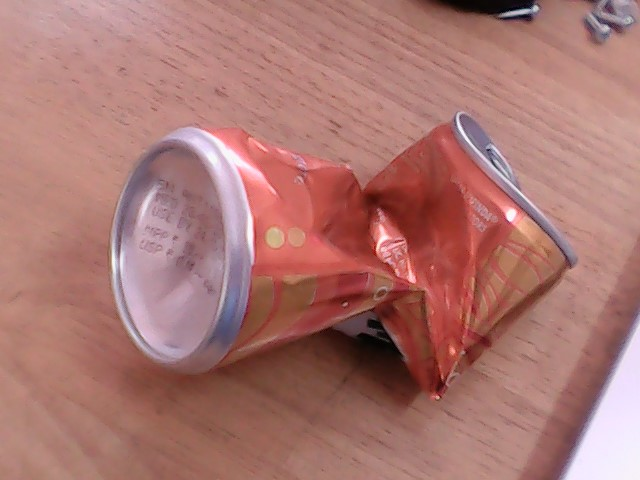Metal: (109, 127, 564, 388)
